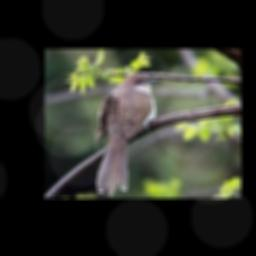Cuckoo: (93, 72, 161, 196)
